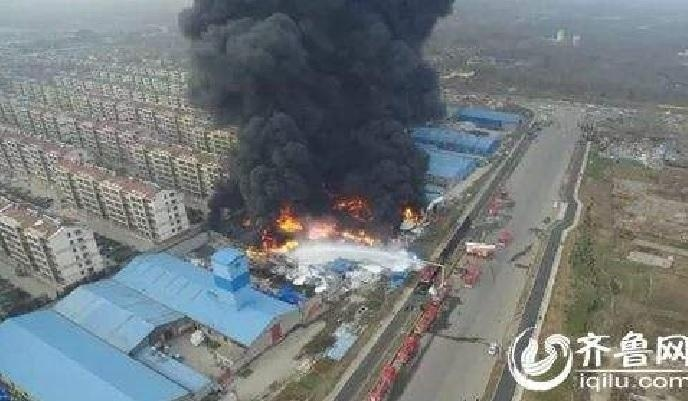fire: (253, 195, 373, 251)
